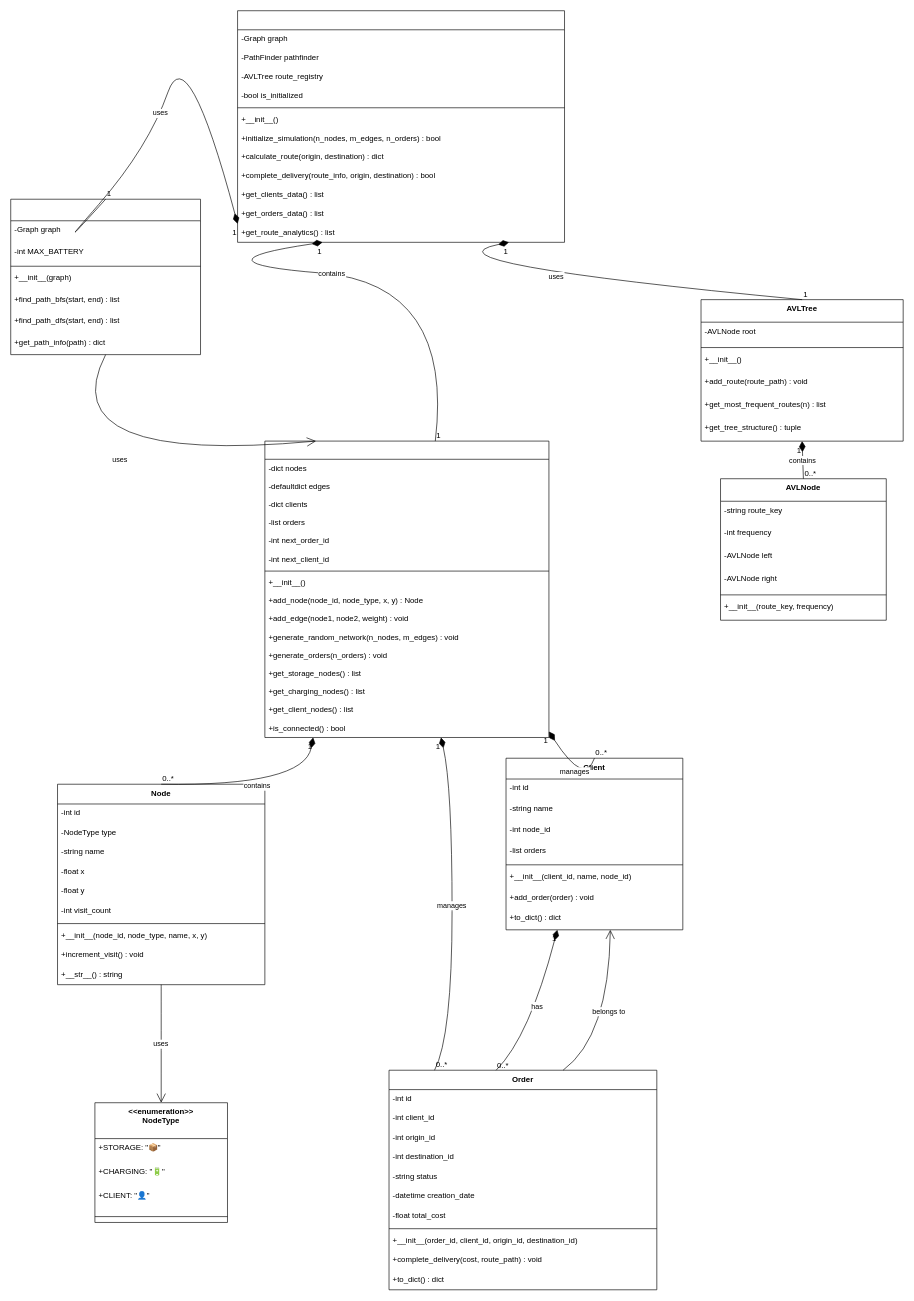
Some shapes in this 914 by 1301 pixel diagram are drawn without their labels. Each missing label, with the box of its shape:
DroneSimulation: (237, 10, 565, 242)
Graph: (264, 440, 549, 737)
PathFinder: (10, 199, 201, 355)
